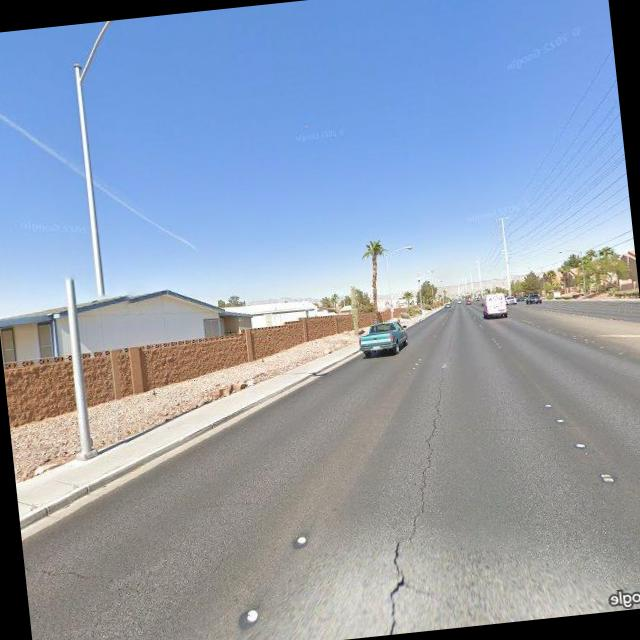crack: (344, 388, 466, 634)
